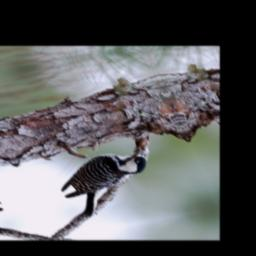Woodpecker: (47, 144, 169, 220)
